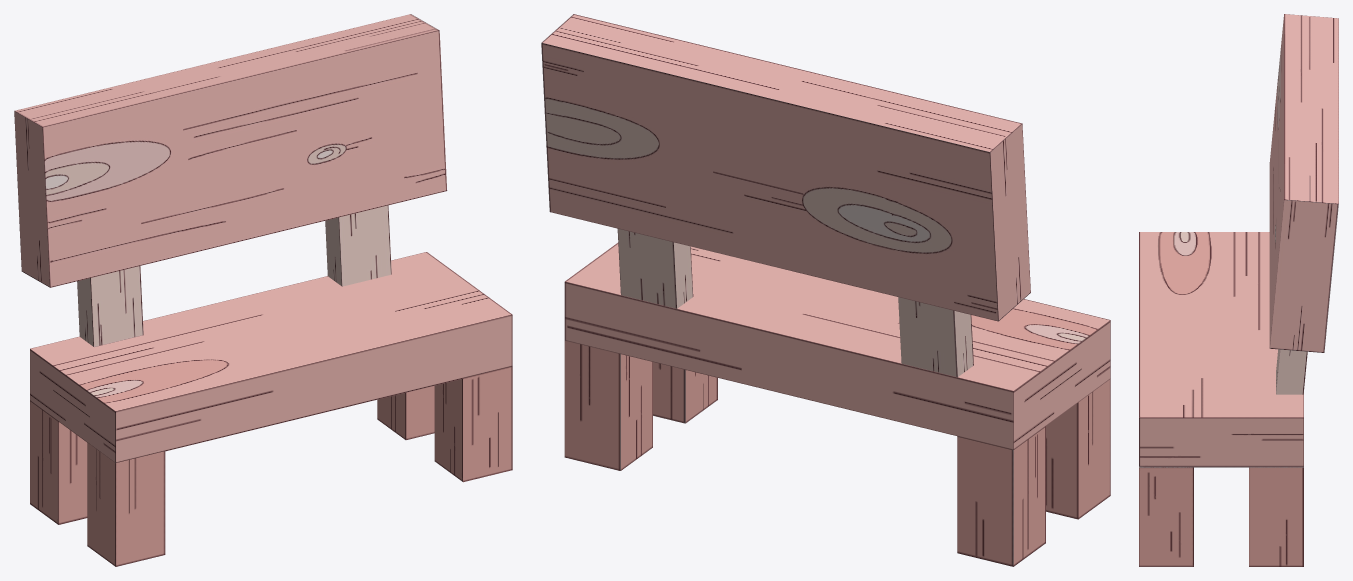
File: chair_pink.fbx
3 renders of one model, left to right at view 1: azimuth 30°, elevation 25°; view 2: azimuth 150°, elevation 25°; view 3: azimuth 270°, elevation 25°, orthographic. The views are drawn at different scales.
Parts seen in each view (by area): view 1: Box001, Box004; view 2: Box001, Box004; view 3: Box004, Box001.
Part boxes in pixels (x1,y1,x2,y2): Box001: (14,14,447,346); Box004: (30,252,512,566); Box001: (541,14,1030,377); Box004: (564,242,1110,566); Box004: (1139,232,1303,566); Box001: (1269,14,1338,394).
Bounding box in the file's own units: 322 × 296 × 145.
